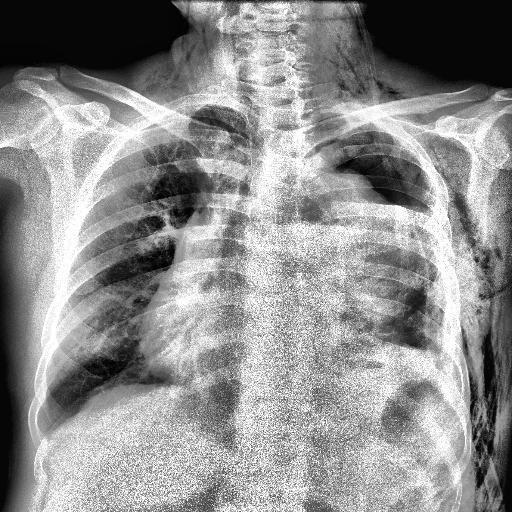10- Pleural effusion: (296, 122, 452, 492), (35, 417, 58, 450)
11- Pleural thickening: (35, 417, 58, 450)
12- Pneumothorax: (300, 103, 442, 210), (303, 106, 435, 207)
7- Lung Opacity: (282, 192, 446, 368), (305, 124, 433, 210), (347, 242, 447, 350), (348, 272, 450, 352), (379, 382, 456, 485)
9- Other lesion: (282, 192, 446, 368), (435, 180, 498, 496), (172, 48, 452, 104), (459, 218, 505, 489), (454, 320, 504, 488), (319, 4, 401, 102), (160, 8, 202, 82), (334, 62, 399, 96)
